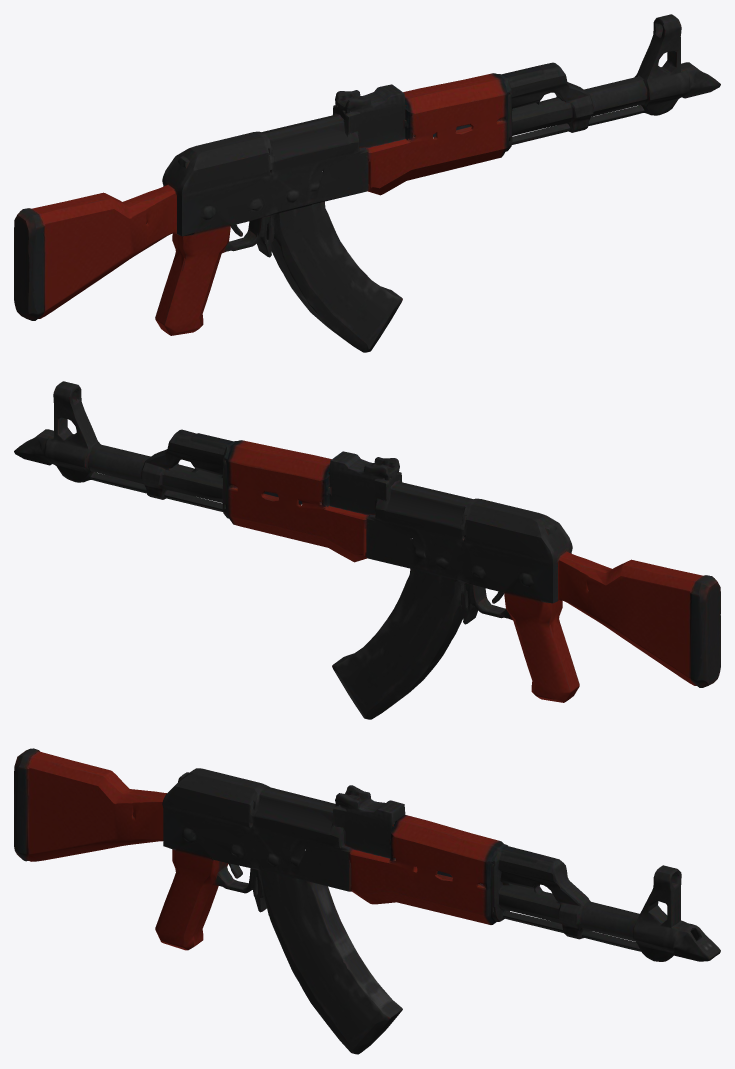
File: wood_furniture_assault_rifle.glb
The picture shows the model from 3 angles, top to bottom: view 1: azimuth 30°, elevation 25°; view 2: azimuth 150°, elevation 25°; view 3: azimuth 330°, elevation 25°; orthographic projection.
Parts seen in each view (by area): view 1: world; view 2: world; view 3: world.
Part boxes in pixels (x1,y1,x2,y2): world: [14, 14, 720, 352]; world: [14, 381, 720, 719]; world: [14, 748, 720, 1054].
Size of the model in its own units: 1 by 0.3537 by 0.0551.
1 material, 1 textured.
